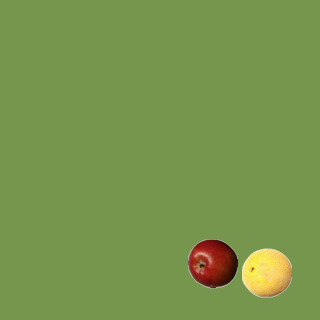Apple Braeburn: (187, 238, 237, 288)
Cantaloupe 1: (241, 247, 291, 297)
